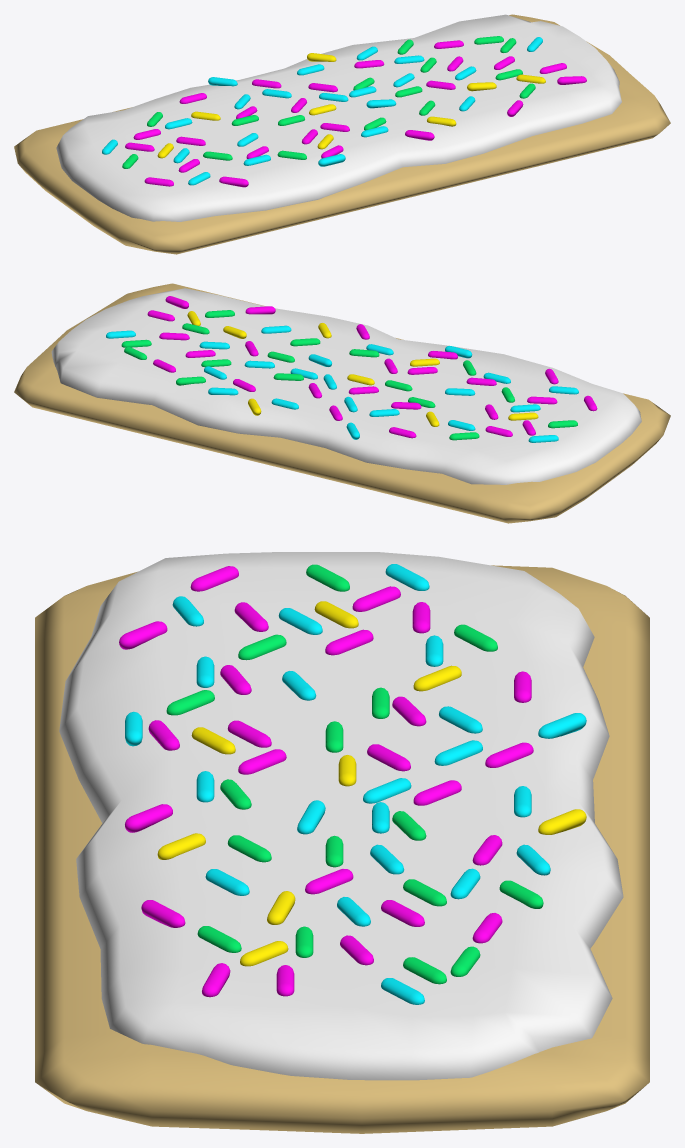
The model's file is PopTart_234.glb.
The picture shows the model from 3 angles, top to bottom: view 1: azimuth 30°, elevation 25°; view 2: azimuth 150°, elevation 25°; view 3: azimuth 270°, elevation 25°; orthographic projection. The views are drawn at different scales.
Parts seen in each view (by area): view 1: node-0; view 2: node-0; view 3: node-0.
Part boxes in pixels (bbox=[...]): node-0: bbox=[14, 14, 670, 254]; node-0: bbox=[14, 283, 670, 523]; node-0: bbox=[35, 552, 649, 1133].
Size of the model in its own units: 41.05 by 3.42 by 19.73.
